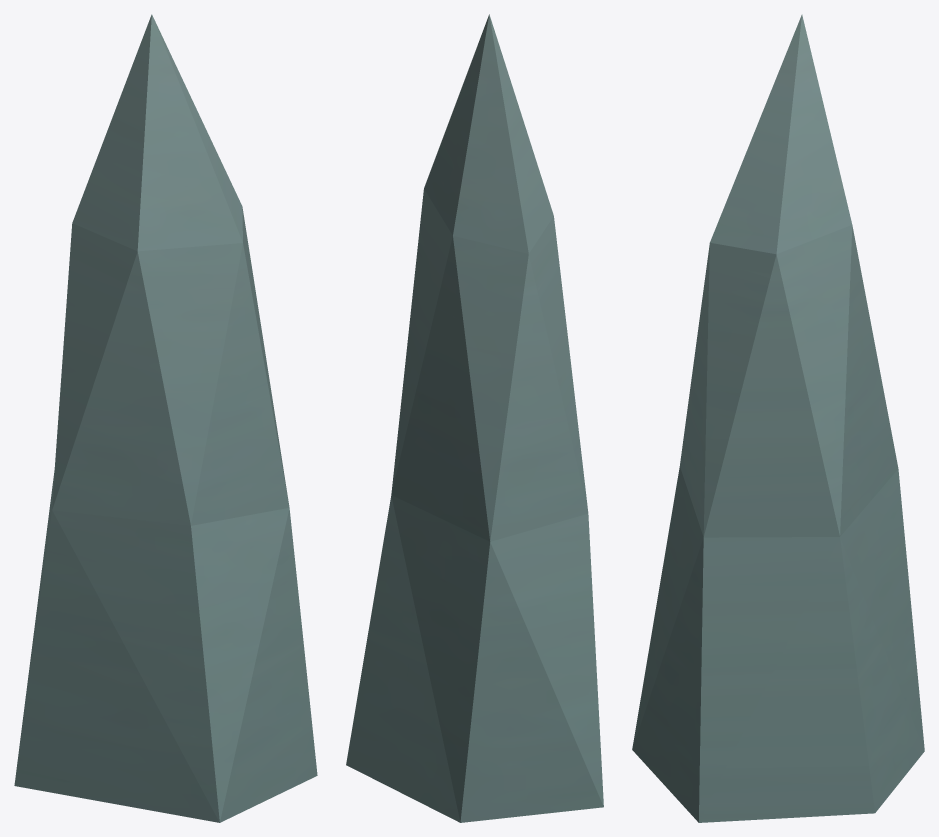
The model's file is icicle_B.obj.
3 renders of one model, left to right at view 1: azimuth 30°, elevation 25°; view 2: azimuth 150°, elevation 25°; view 3: azimuth 270°, elevation 25°, orthographic.
Visible parts, largest first — view 1: icicle_B; view 2: icicle_B; view 3: icicle_B.
Part boxes in pixels (box(x1,y1,x2,y2)): icicle_B: box(14, 14, 317, 822); icicle_B: box(346, 14, 603, 822); icicle_B: box(632, 14, 924, 822).
Bounding box in the file's own units: 0.1126 × 0.3372 × 0.1188.
